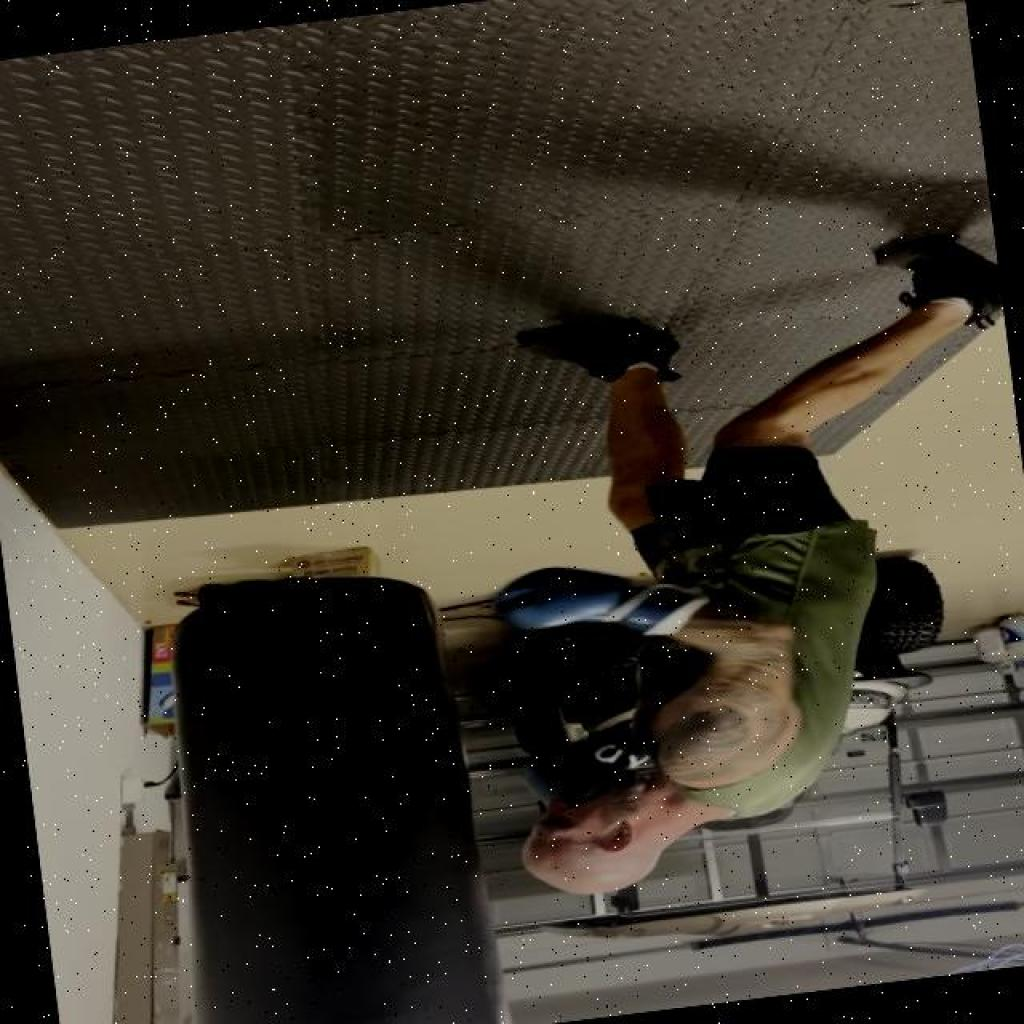bag: (115, 547, 533, 1024)
uppercut: (472, 506, 875, 930)
